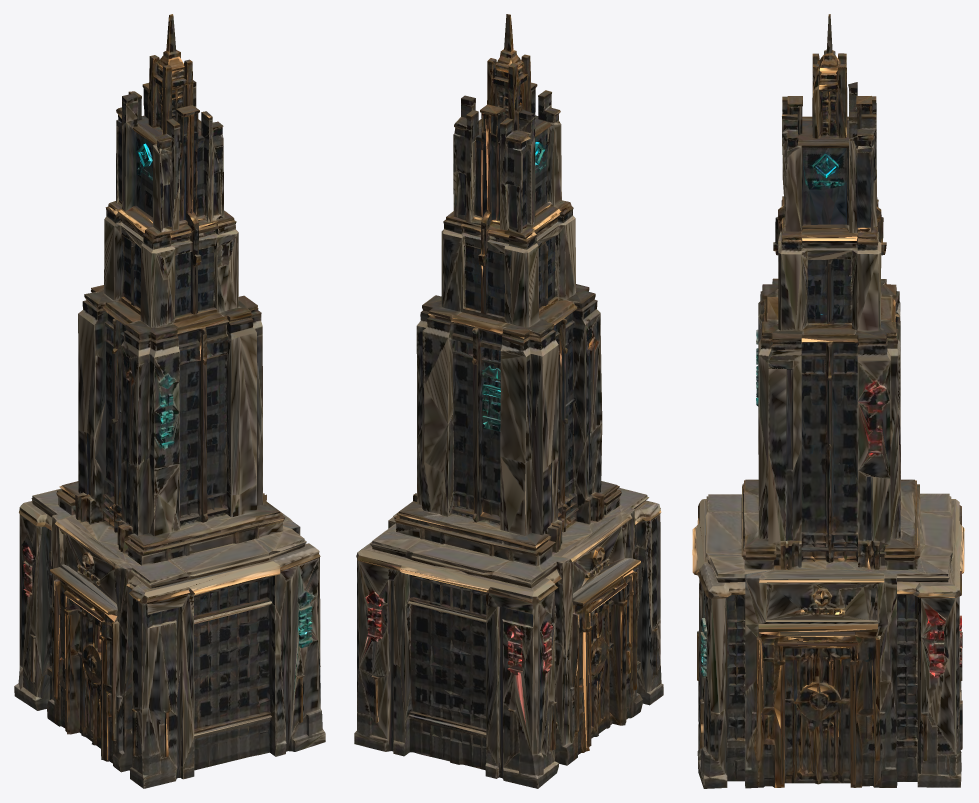
3 renders of one model, left to right at view 1: azimuth 30°, elevation 25°; view 2: azimuth 150°, elevation 25°; view 3: azimuth 270°, elevation 25°, orthographic. The views are drawn at different scales.
Parts seen in each view (by area): view 1: c03; view 2: c03; view 3: c03.
Boxes of the visible parts, <box> form: c03: <box>14,14,325,788</box>; c03: <box>354,14,663,788</box>; c03: <box>692,14,964,788</box>.
Bounding box in the file's own units: 34.9 × 120 × 40.68.
Materials: 1 (1 with a texture image).
